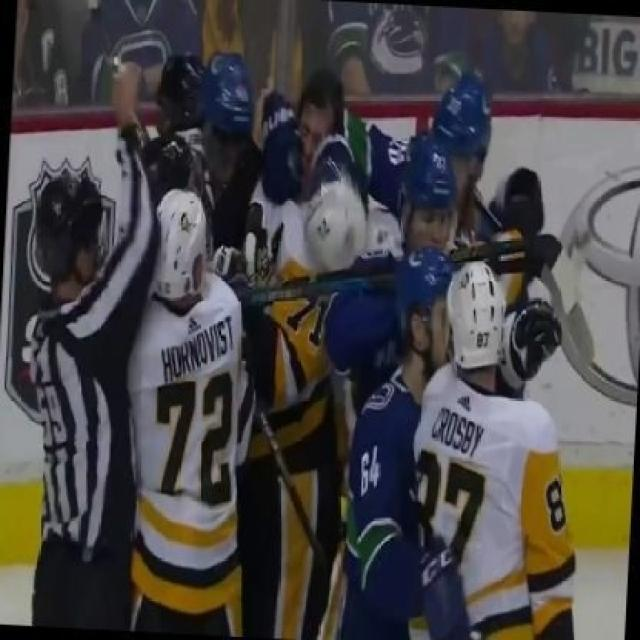fight: (55, 26, 623, 637)
